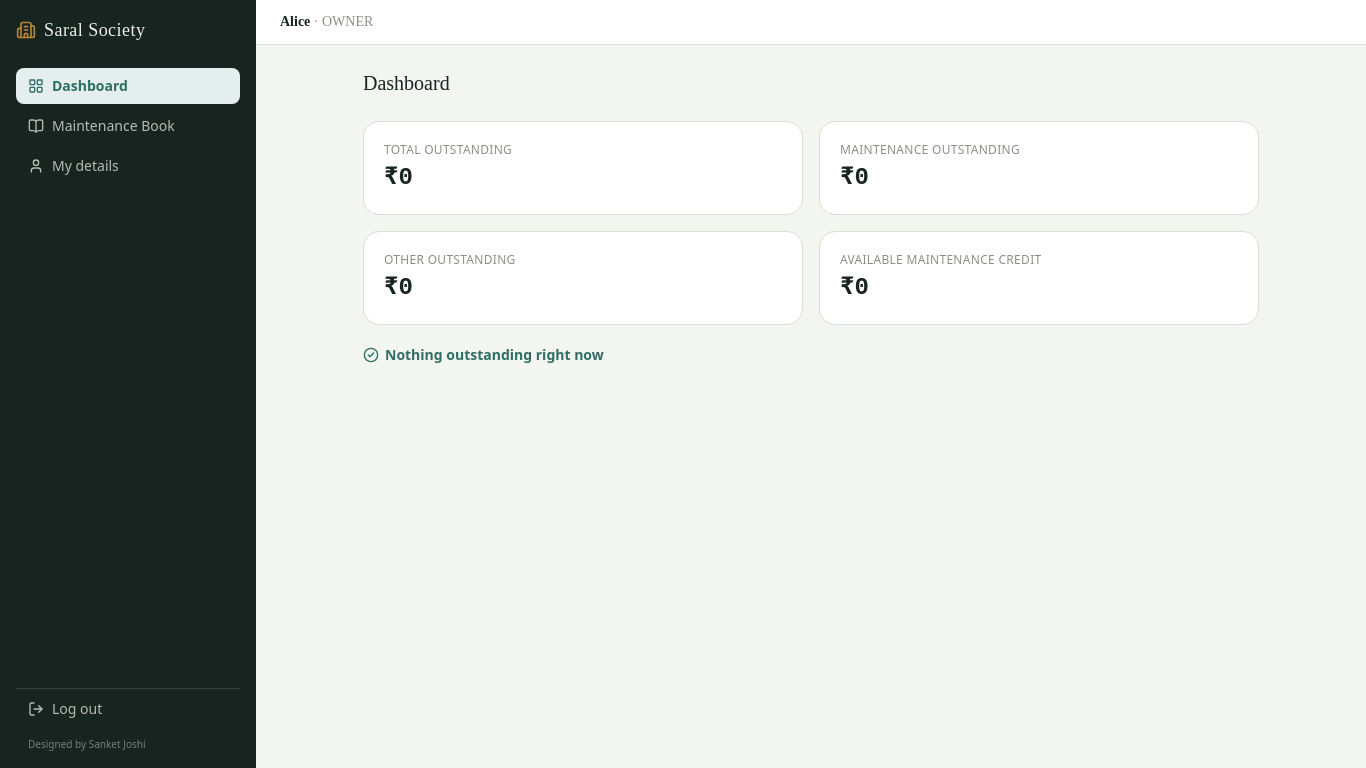
Test: DashboardLayout › switches to the Maintenance Book page on click
Step 1. Click the link "Maintenance Book" → (101, 126), box [28,116,175,135]
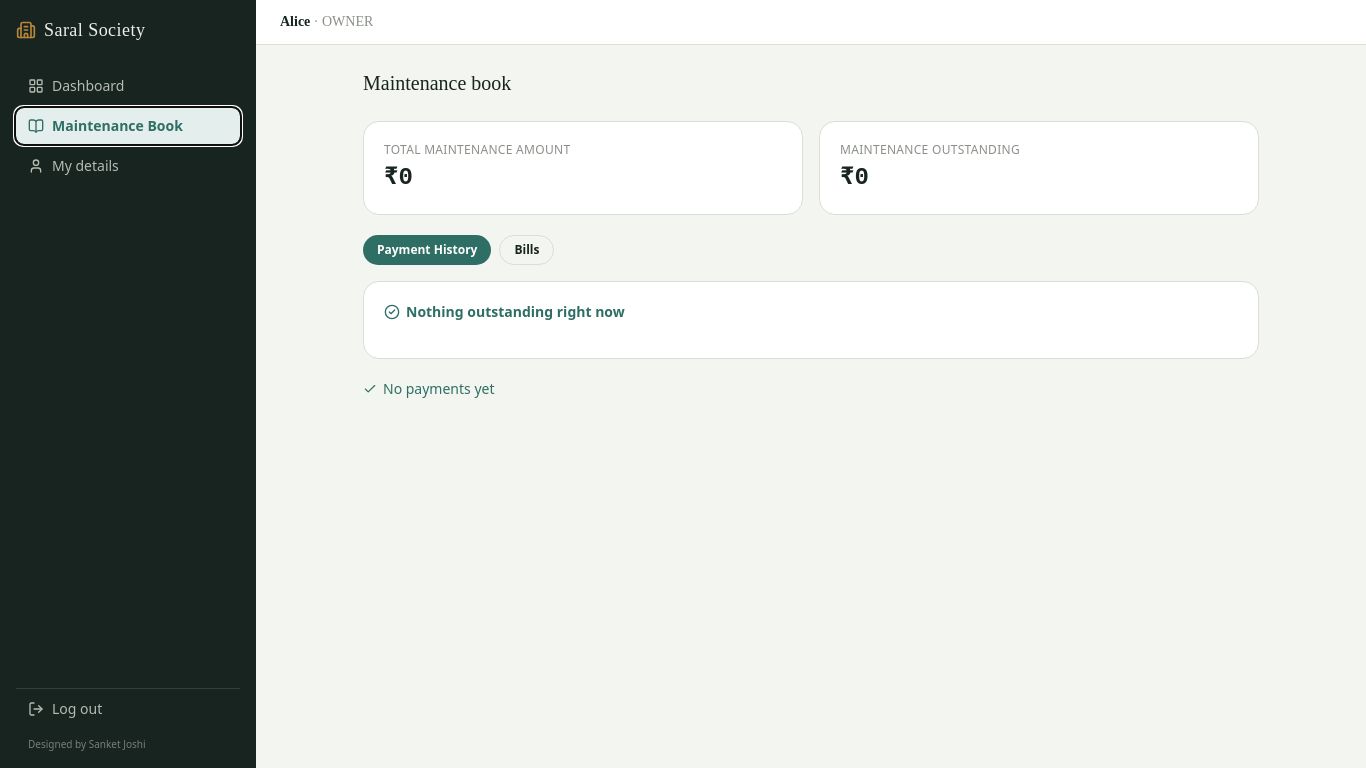
Check: the text "No payments yet" is shown, box [363,379,494,398]
